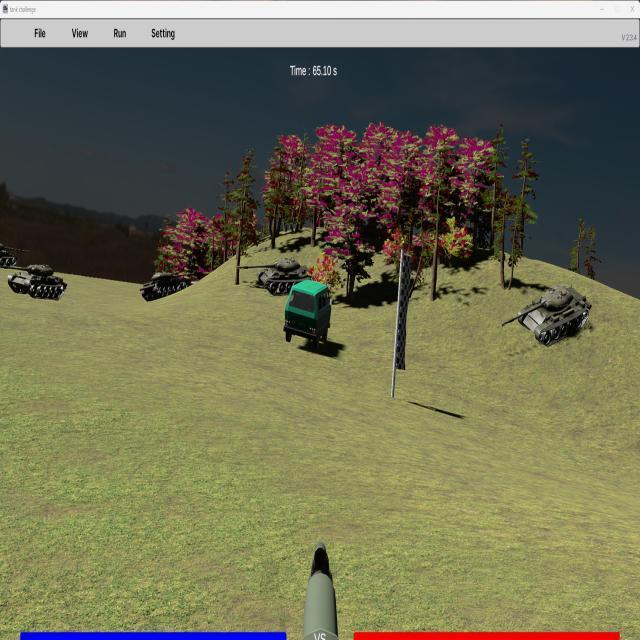Tank: (501, 285, 592, 346), (237, 258, 316, 296), (2, 265, 67, 299), (138, 271, 199, 301), (0, 240, 29, 269)
car: (284, 280, 331, 348)
